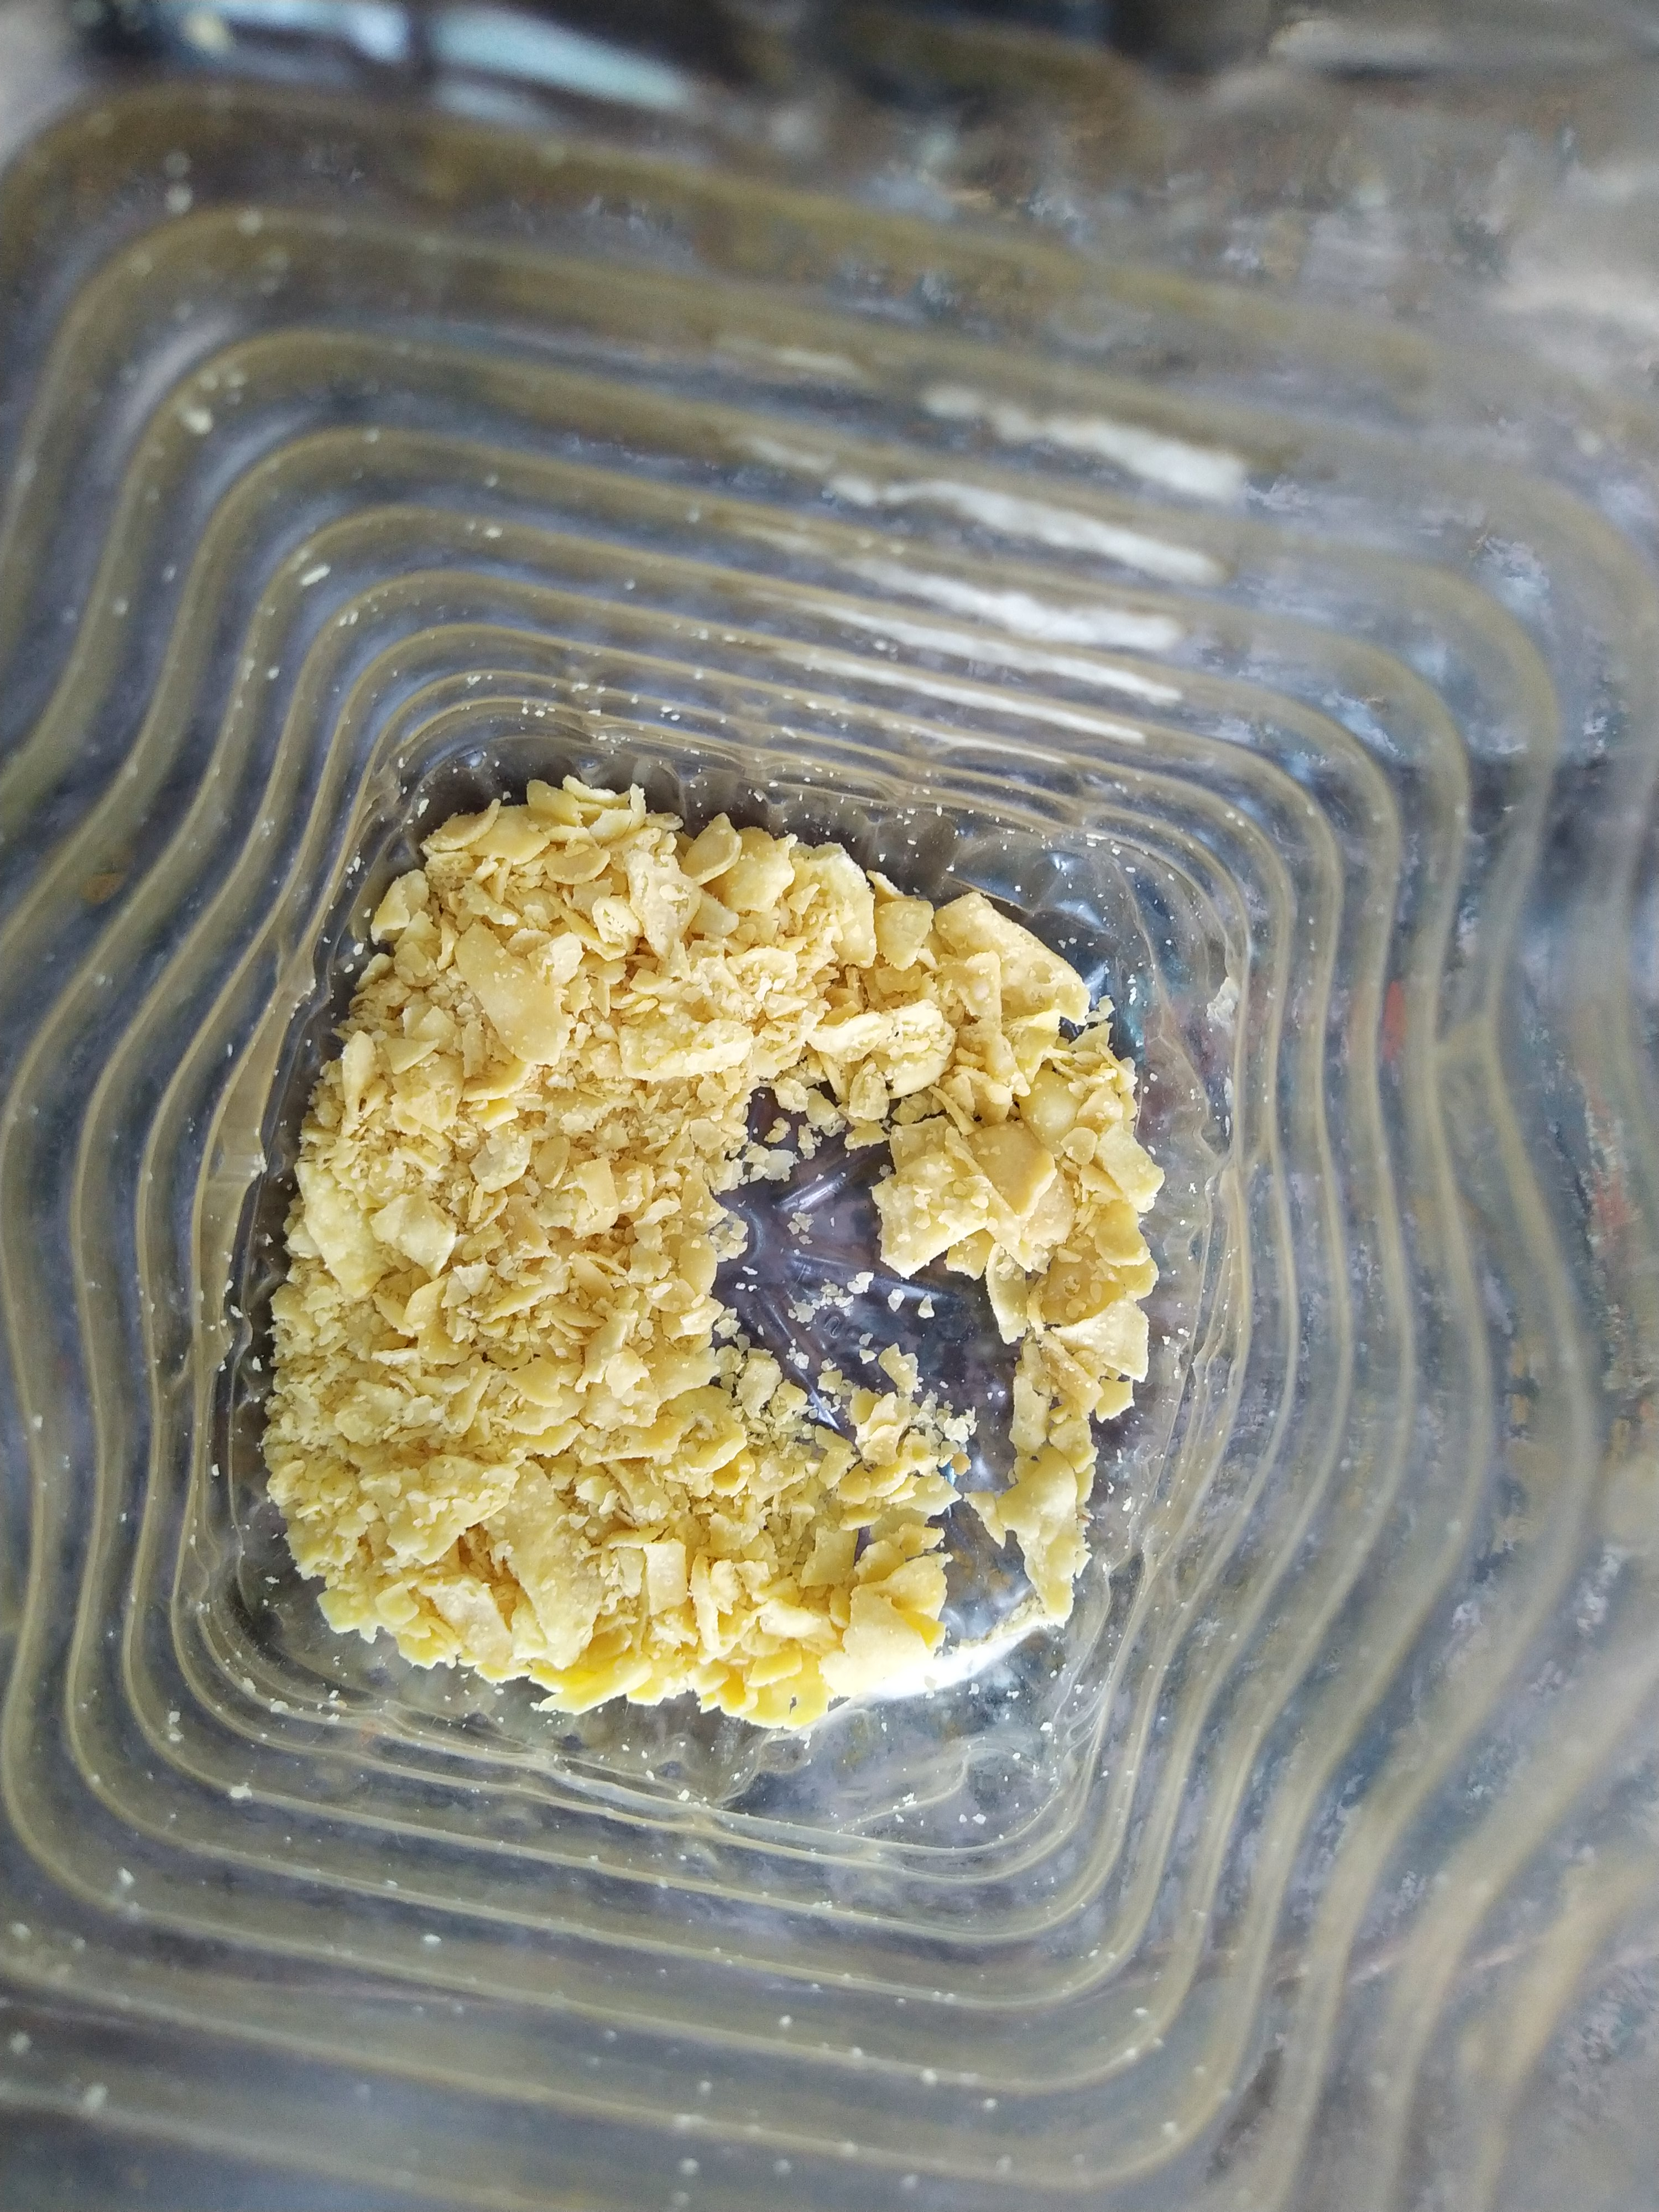food: (249, 759, 1168, 1752)
